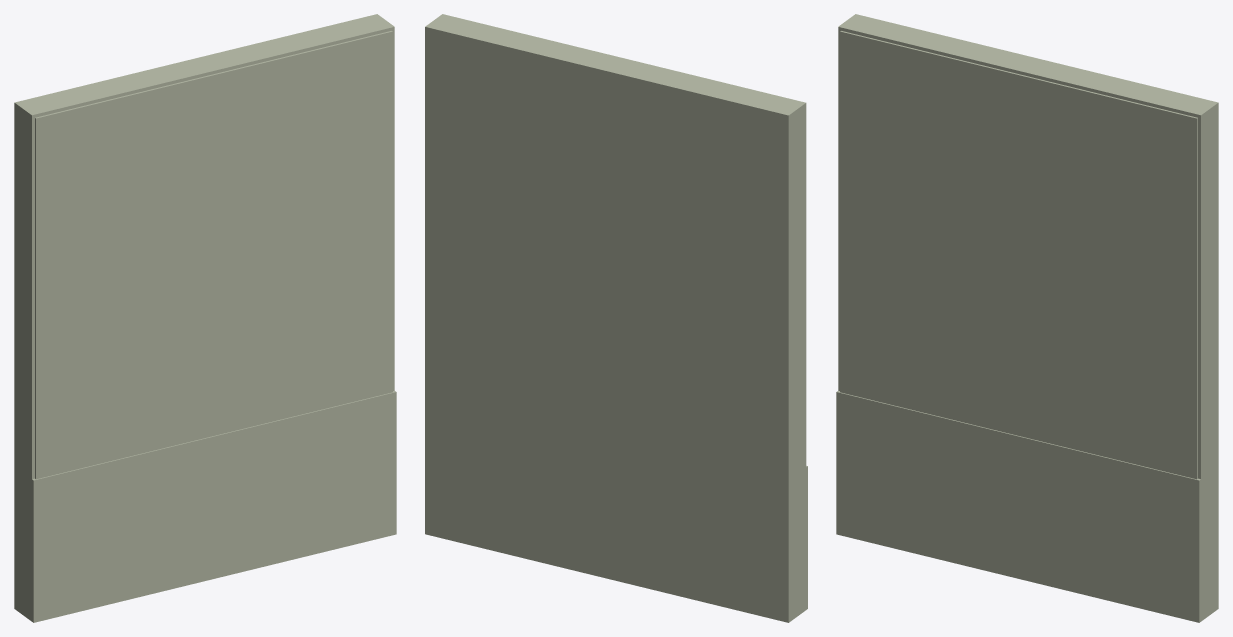
The model's file is SM_P2_Sealed_Wall_A.obj.
3 renders of one model, left to right at view 1: azimuth 30°, elevation 25°; view 2: azimuth 150°, elevation 25°; view 3: azimuth 330°, elevation 25°, orthographic.
Visible parts, largest first — view 1: patch_seam, dado_band, wall_body; view 2: wall_body; view 3: patch_seam, dado_band, wall_body.
Boxes of the visible parts, bbox=[...] form: patch_seam: bbox=[35, 31, 392, 479]; dado_band: bbox=[32, 390, 396, 622]; wall_body: bbox=[14, 14, 394, 621]; wall_body: bbox=[425, 14, 806, 622]; patch_seam: bbox=[840, 31, 1197, 479]; dado_band: bbox=[836, 390, 1200, 622]; wall_body: bbox=[838, 14, 1218, 621].
Bounding box in the file's own units: 2.4 × 3.2 × 0.22.
